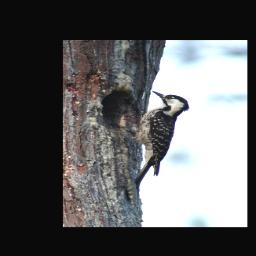Woodpecker: (112, 89, 191, 187)
